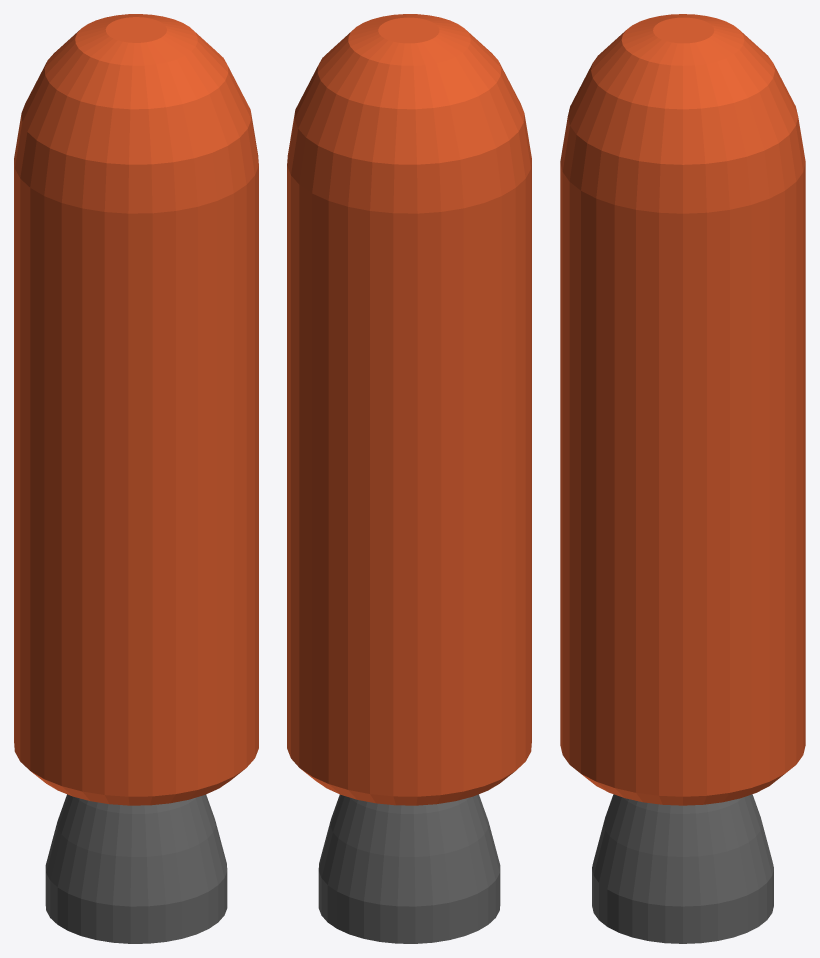
Rendered from booster.fbx.
3 renders of one model, left to right at view 1: azimuth 30°, elevation 25°; view 2: azimuth 150°, elevation 25°; view 3: azimuth 270°, elevation 25°, orthographic.
Visible parts, largest first — view 1: Booster; view 2: Booster; view 3: Booster.
Boxes of the visible parts, box(x1,y1,x2,y2) form: Booster: box(14, 14, 258, 943); Booster: box(287, 14, 531, 943); Booster: box(560, 14, 805, 943).
Bounding box in the file's own units: 2 × 7.87 × 2.
